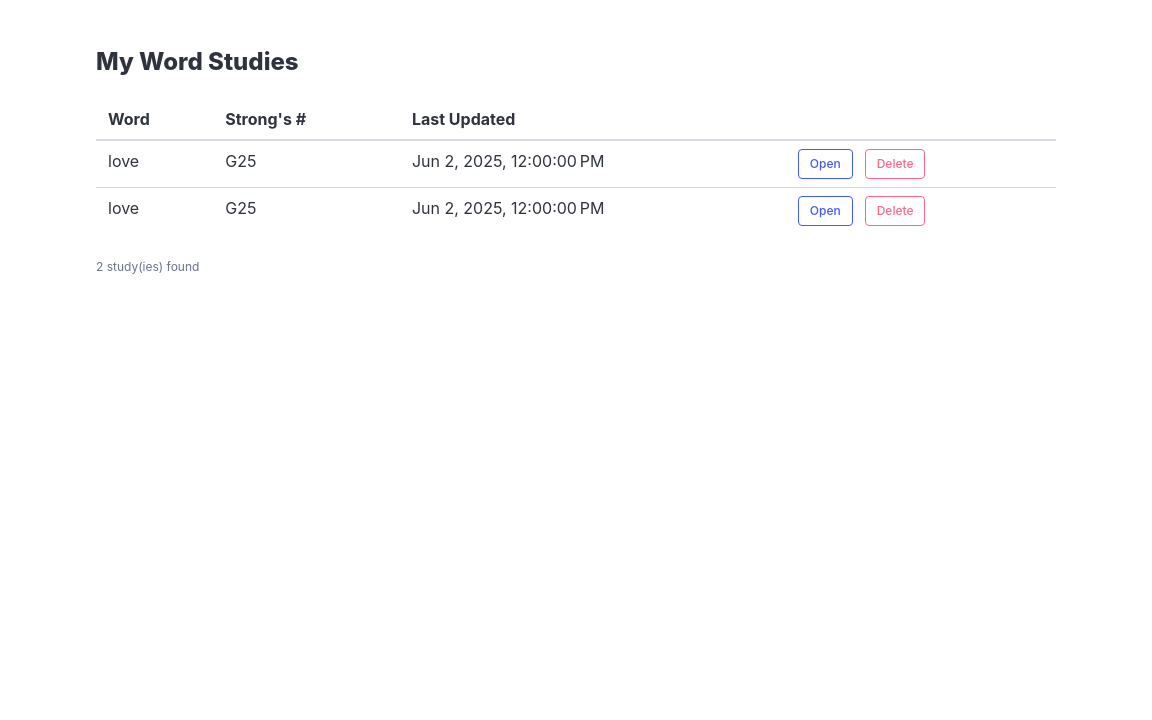
it: StudyListComponent › should delete study and remove it from the list on confirm
The image size is (1152, 720).
Note: Click delete on first study
Click the 1st button with test id "delete-study-button" at (895, 164), box [865,149,926,179]
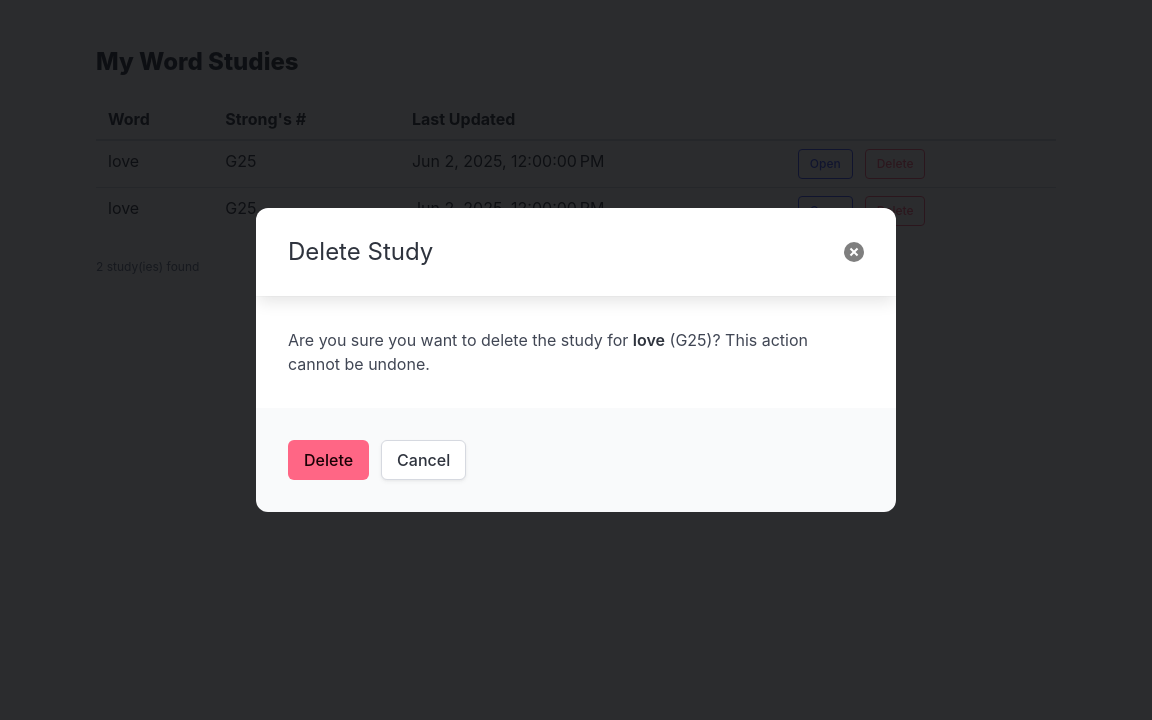
Click the button with test id "confirm-delete-button" at (329, 460), box [288,440,369,480]
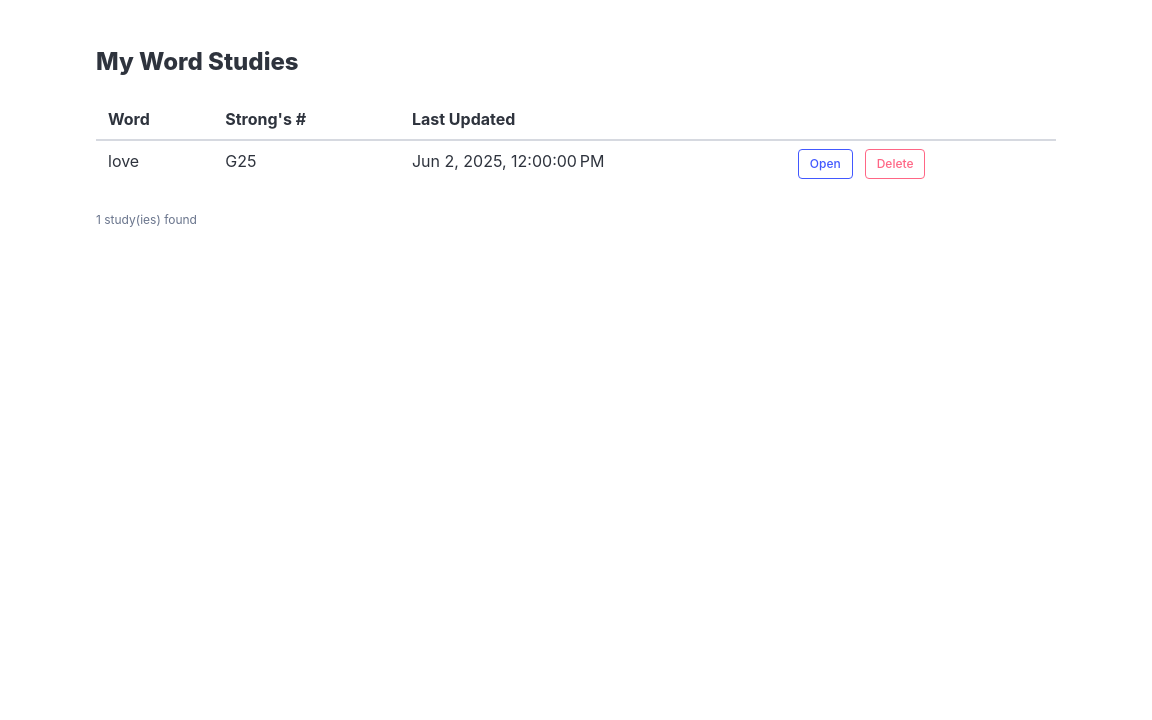
Expected: the element with test id "delete-modal" is gone
